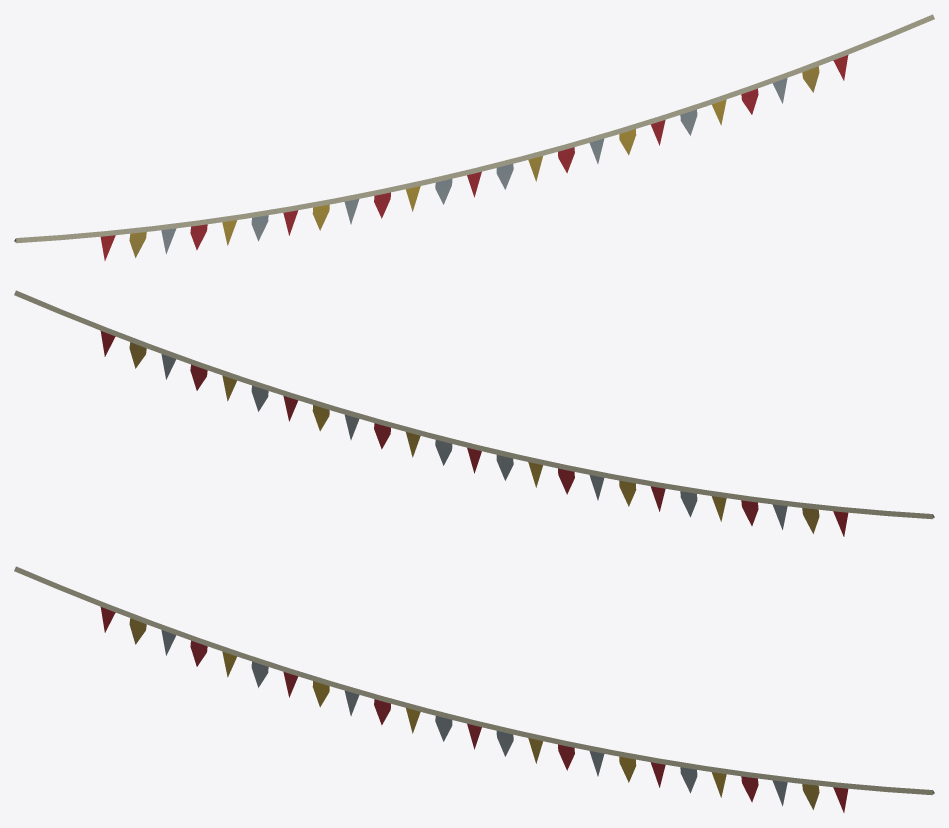
File: Rope_2D.fbx
The picture shows the model from 3 angles, top to bottom: view 1: azimuth 30°, elevation 25°; view 2: azimuth 150°, elevation 25°; view 3: azimuth 330°, elevation 25°; orthographic projection.
Visible parts, largest first — view 1: polySurface9888; view 2: polySurface9888; view 3: polySurface9888.
Boxes of the visible parts, left/top/right/bottom form: polySurface9888: left=14, top=14, right=934, bottom=260; polySurface9888: left=14, top=290, right=934, bottom=536; polySurface9888: left=14, top=566, right=934, bottom=812.
Bounding box in the file's own units: 2987 × 223 × 14.72.
